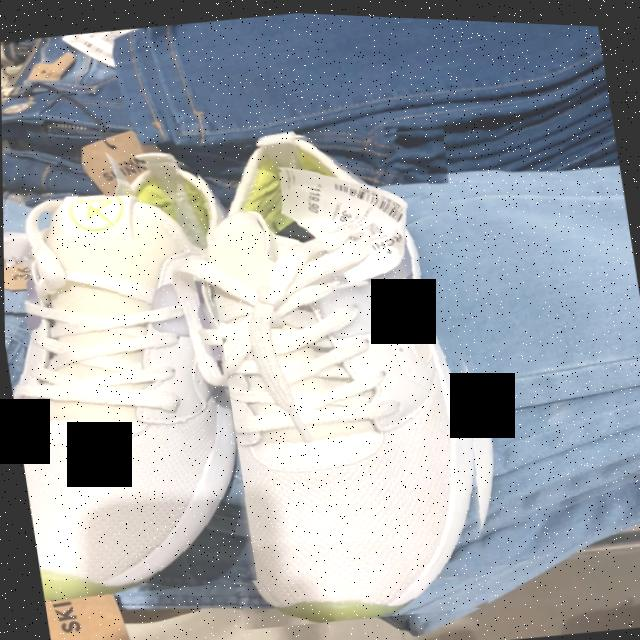shoe: (184, 135, 479, 620), (13, 161, 222, 600)
